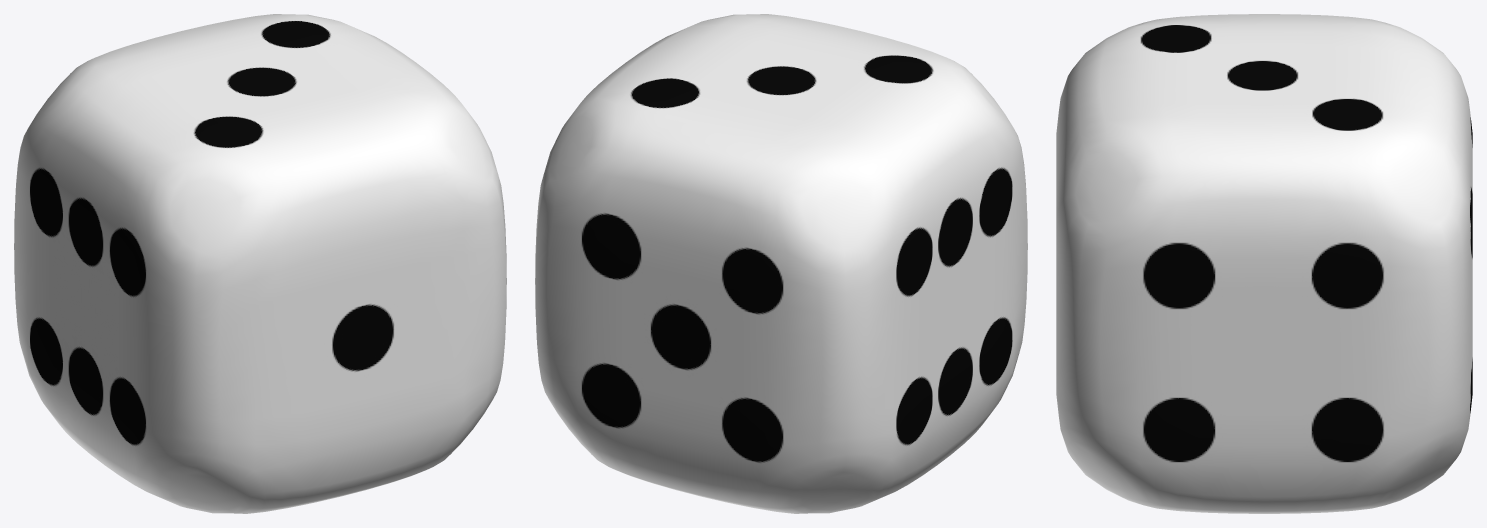
File: Rounded_Dice_02.FBX
3 renders of one model, left to right at view 1: azimuth 30°, elevation 25°; view 2: azimuth 150°, elevation 25°; view 3: azimuth 270°, elevation 25°, orthographic. The views are drawn at different scales.
Visible parts, largest first — view 1: Box001; view 2: Box001; view 3: Box001.
Part boxes in pixels (left/top/right/bottom): Box001: left=14, top=14, right=506, bottom=513; Box001: left=535, top=14, right=1027, bottom=513; Box001: left=1056, top=14, right=1472, bottom=513.
Size of the model in its own units: 10 by 10 by 10.
